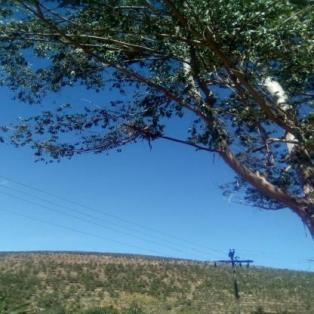Poste: (229, 251, 241, 314)
